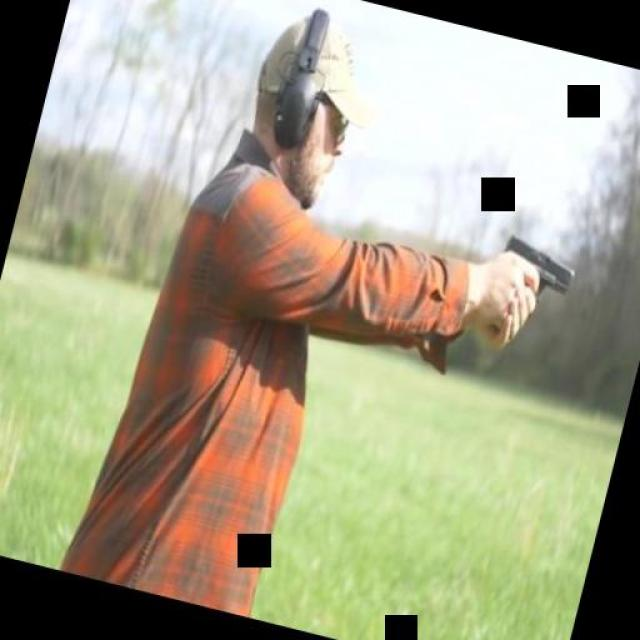gun: (480, 230, 584, 342)
